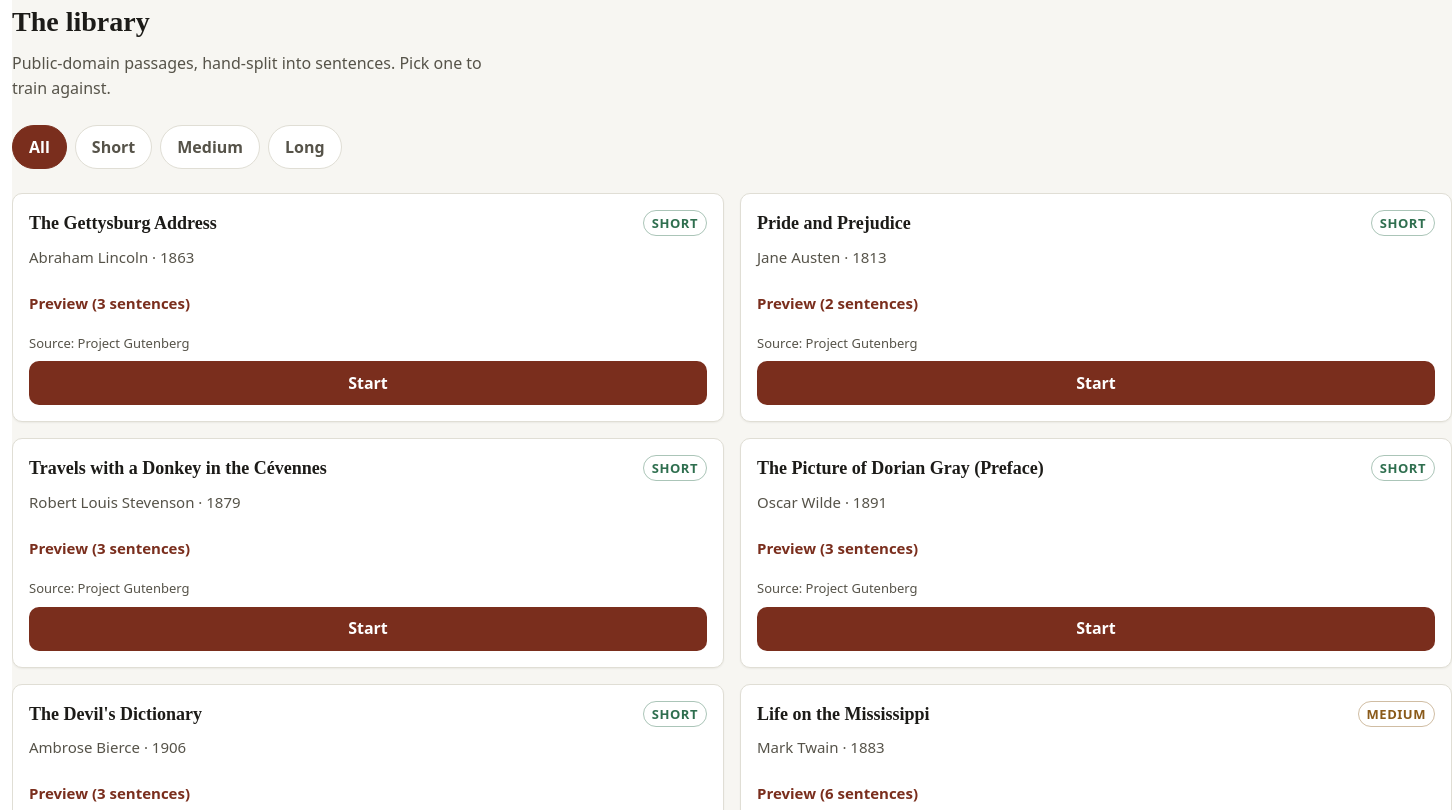
Test case: Library › shows a next step when a start fails and keeps the card usable
Click the button "Start" below "Abraham Lincoln": [368, 383] box [29, 361, 707, 405]
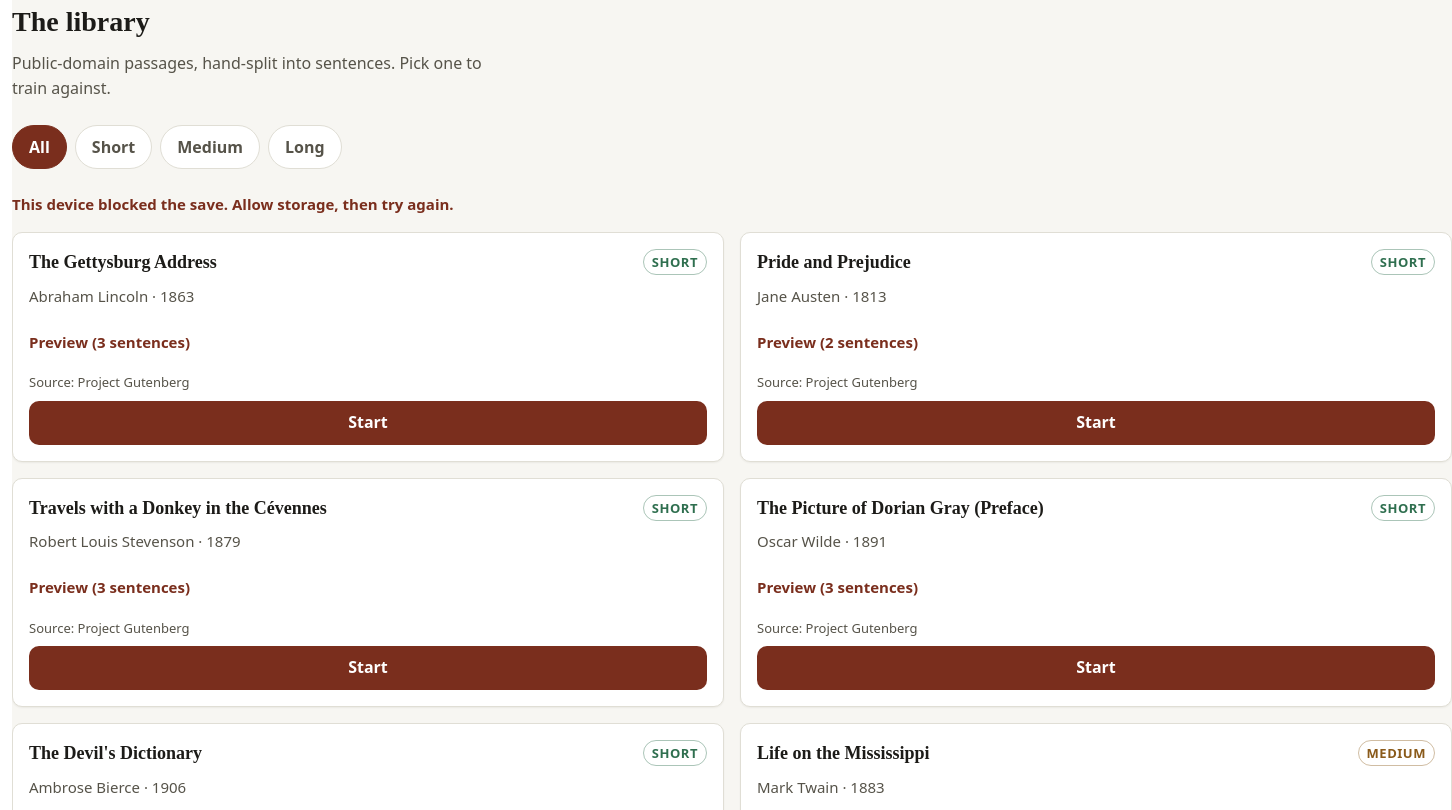
Expected: the button "Start" below "Abraham Lincoln" is enabled, [29, 400, 707, 444]
Now the message shows "Allow storage, then try again", box [12, 194, 454, 214]
